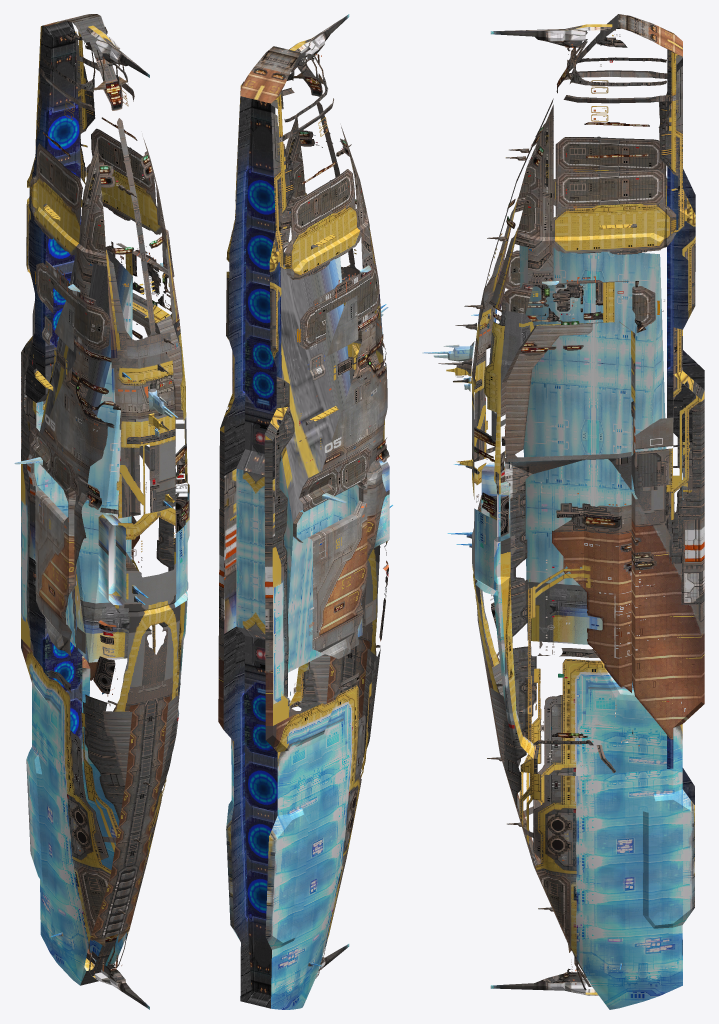
File: LOD1-UVFlip.obj
3 renders of one model, left to right at view 1: azimuth 30°, elevation 25°; view 2: azimuth 150°, elevation 25°; view 3: azimuth 270°, elevation 25°, orthographic. The views are drawn at different scales.
Parts seen in each view (by area): view 1: side_upper, side_lower, leftover, engine1, badge1, leftover_bay; view 2: side_upper, side_lower, engine1, leftover, badge1; view 3: side_lower, side_upper, leftover, engine1.
Boxes of the visible parts, x1,y1,x2,y2 form: side_upper: (14,14,187,1009); side_lower: (21,25,189,985); leftover: (34,248,189,662); engine1: (25,21,82,751); badge1: (54,300,74,351); leftover_bay: (108,525,115,593); side_upper: (224,14,389,978); side_lower: (218,15,392,1009); engine1: (223,96,281,1008); leftover: (236,257,389,672); badge1: (327,295,358,355); side_lower: (446,24,704,1009); side_upper: (422,14,695,995); leftover: (474,245,682,644); engine1: (667,49,704,954).
Size of the model in its own units: 315 by 2468 by 642.
